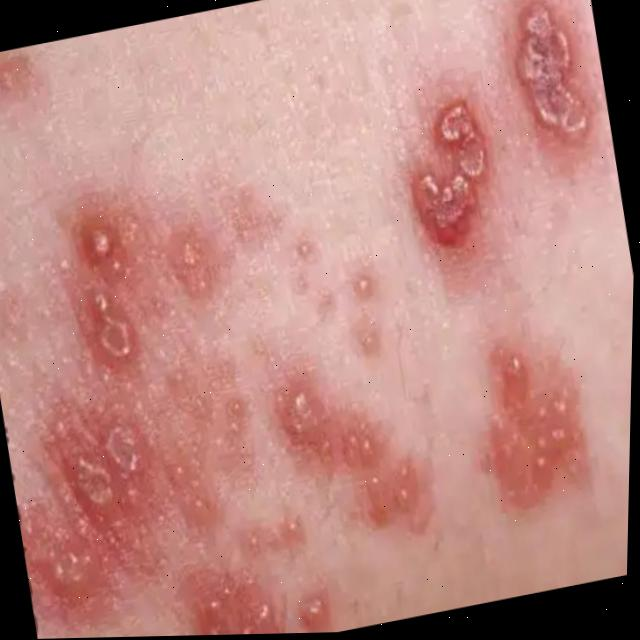Shingles: (0, 183, 430, 640), (472, 344, 600, 474), (401, 104, 499, 241), (514, 9, 590, 165)
